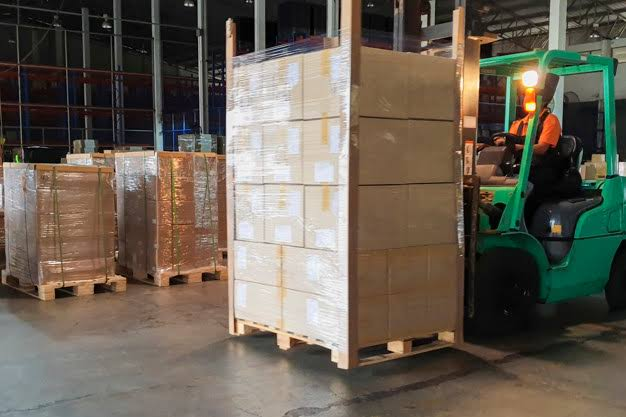box: (408, 47, 460, 122), (279, 287, 337, 352), (358, 46, 408, 120), (358, 186, 413, 252), (280, 243, 337, 304), (358, 118, 408, 186), (408, 120, 460, 185), (300, 47, 340, 123), (410, 185, 458, 248), (262, 50, 302, 120), (300, 116, 340, 186), (262, 184, 304, 250), (262, 121, 302, 186), (232, 279, 282, 329), (302, 184, 338, 252), (232, 242, 282, 286), (228, 126, 262, 184), (232, 184, 264, 242), (232, 61, 262, 120), (390, 298, 429, 342), (390, 252, 428, 296), (355, 298, 389, 343), (358, 252, 390, 299), (427, 250, 456, 297), (427, 296, 459, 335)
pallet: (227, 314, 470, 372), (1, 263, 129, 304)
